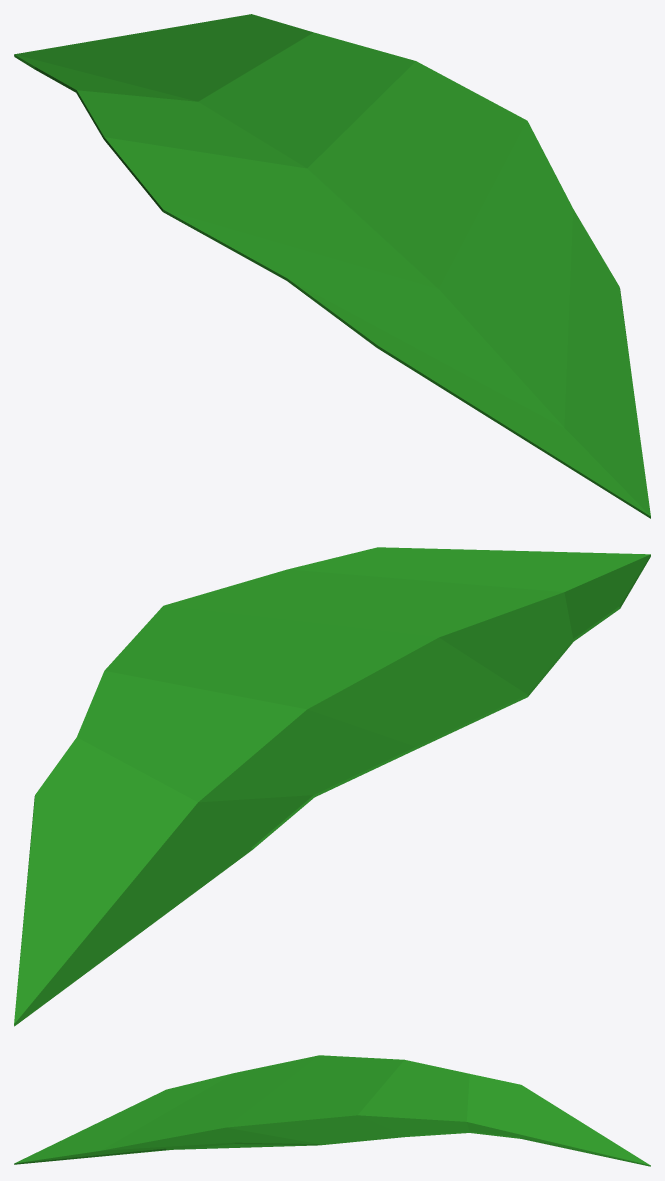
File: oregano3.fbx
The picture shows the model from 3 angles, top to bottom: view 1: azimuth 30°, elevation 25°; view 2: azimuth 150°, elevation 25°; view 3: azimuth 270°, elevation 25°; orthographic projection. The views are drawn at different scales.
Parts seen in each view (by area): view 1: GRAS.002; view 2: GRAS.002; view 3: GRAS.002.
Boxes of the visible parts, x1=… form: GRAS.002: x1=14, y1=14, x2=650, y2=518; GRAS.002: x1=14, y1=547, x2=650, y2=1026; GRAS.002: x1=14, y1=1055, x2=650, y2=1166.
Size of the model in its own units: 2.65 by 0.9561 by 8.01.
